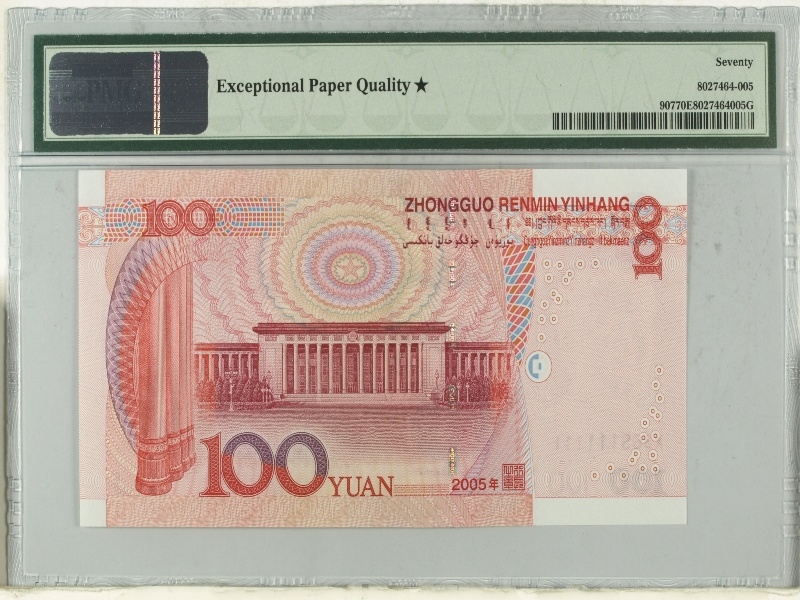papernote: (75, 165, 691, 533)
